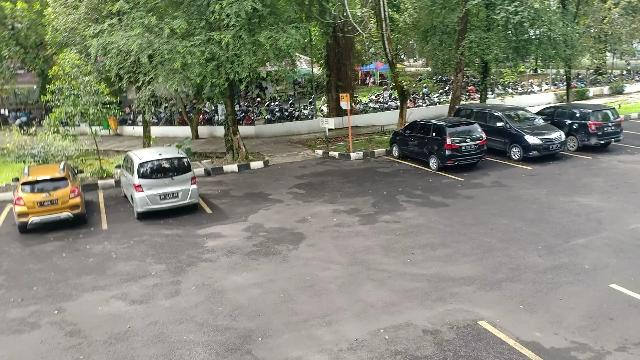occupied: (0, 178, 104, 242), (102, 167, 204, 229), (388, 129, 488, 177), (489, 116, 566, 170), (564, 112, 626, 158)
